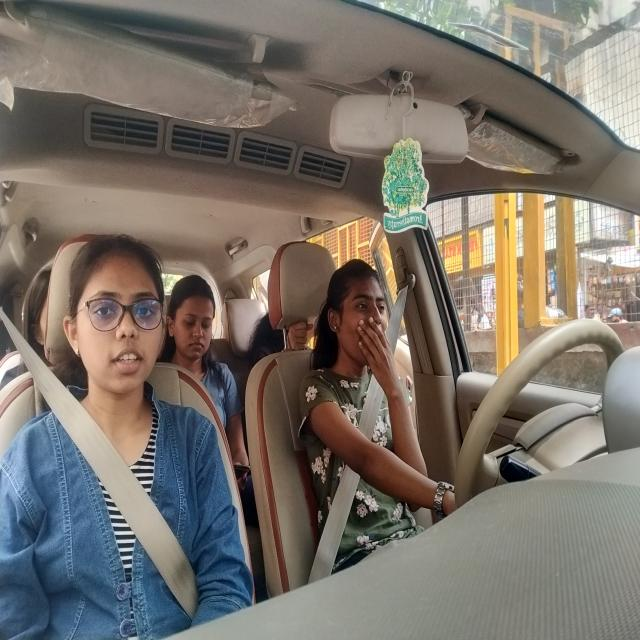drowsy: (315, 245, 397, 392)
person: (64, 222, 168, 438), (165, 262, 230, 390), (24, 251, 51, 379)
